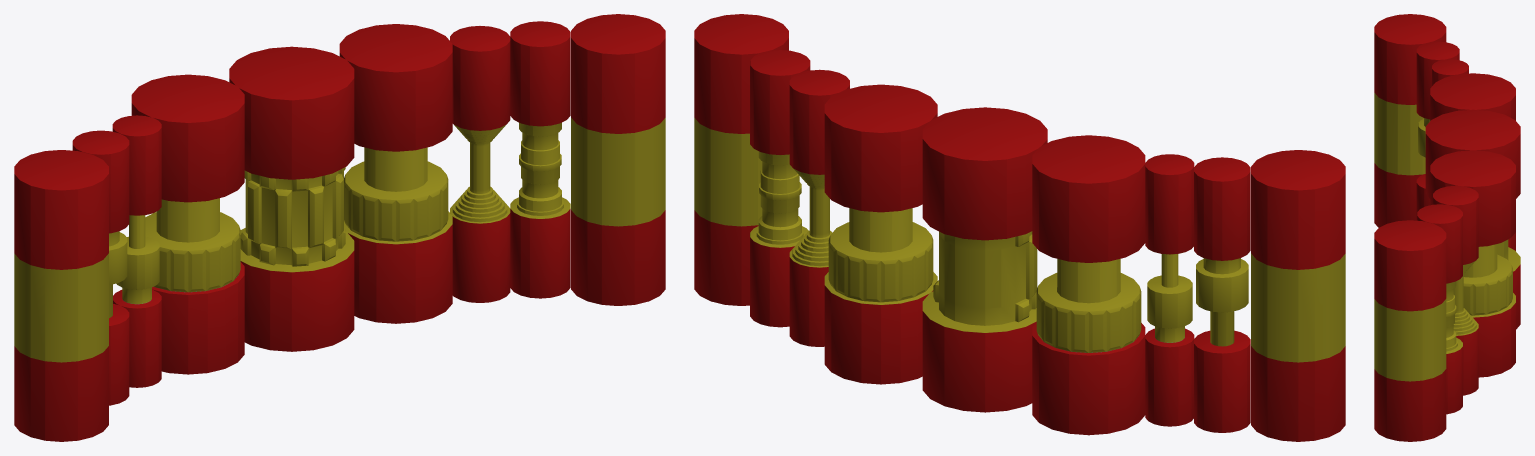
Rendered from Machine.fbx.
3 views of the same model, side by side, from view 1: azimuth 30°, elevation 25°; view 2: azimuth 150°, elevation 25°; view 3: azimuth 270°, elevation 25° (orthographic). The views are drawn at different scales.
Visible parts, largest first — view 1: Machinerie; view 2: Machinerie; view 3: Machinerie.
Boxes of the visible parts, left/top/right/bottom form: Machinerie: left=14, top=14, right=665, bottom=441; Machinerie: left=694, top=14, right=1345, bottom=441; Machinerie: left=1374, top=14, right=1520, bottom=441.
Size of the model in its own units: 3863 by 1451 by 1008.
